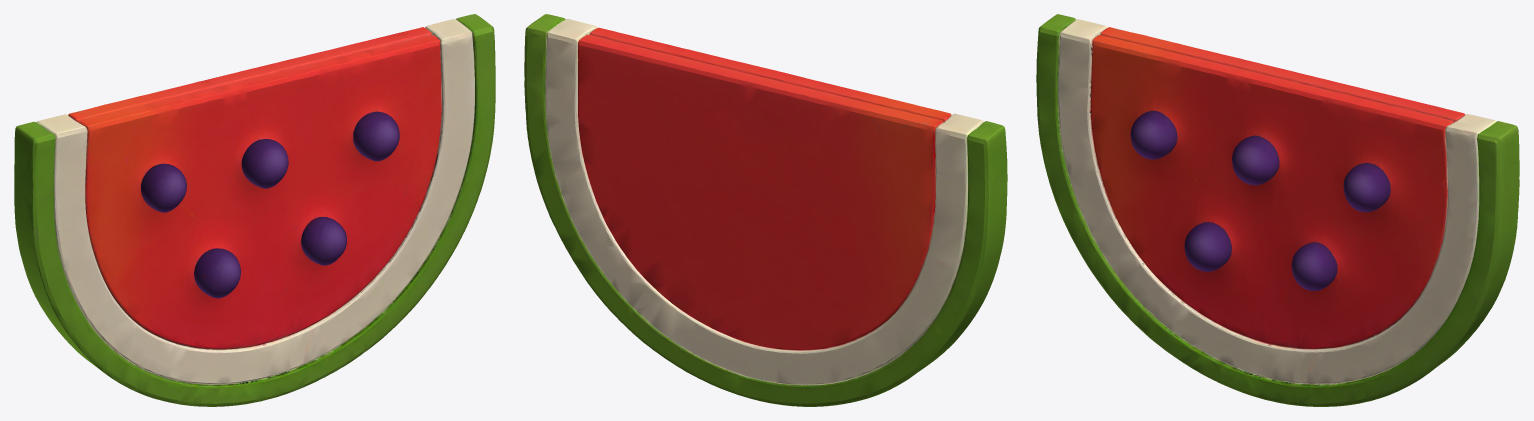
File: watermelon.glb
3 renders of one model, left to right at view 1: azimuth 30°, elevation 25°; view 2: azimuth 150°, elevation 25°; view 3: azimuth 330°, elevation 25°, orthographic.
Parts seen in each view (by area): view 1: model; view 2: model; view 3: model.
Part boxes in pixels (x1,y1,x2,y2): model: (14, 14, 495, 406); model: (524, 14, 1007, 406); model: (1036, 14, 1519, 406).
Size of the model in its own units: 1 by 0.6543 by 0.1428.
1 material, 1 textured.
